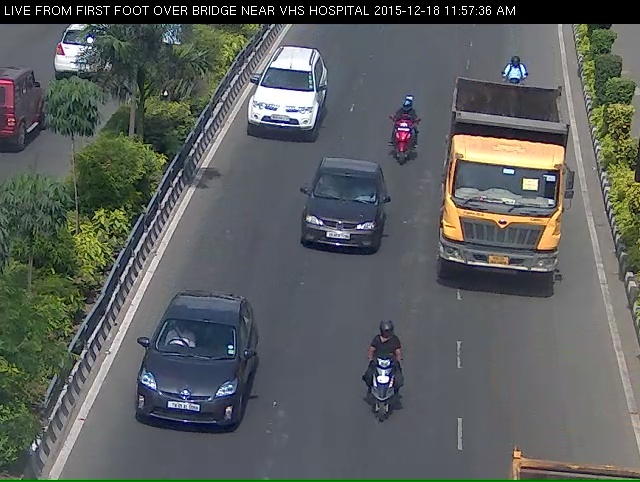Bus: (447, 88, 570, 308)
Car: (130, 314, 250, 460), (305, 169, 372, 271), (251, 48, 318, 149)
Person: (357, 350, 409, 444), (384, 104, 416, 178), (496, 56, 530, 110)
